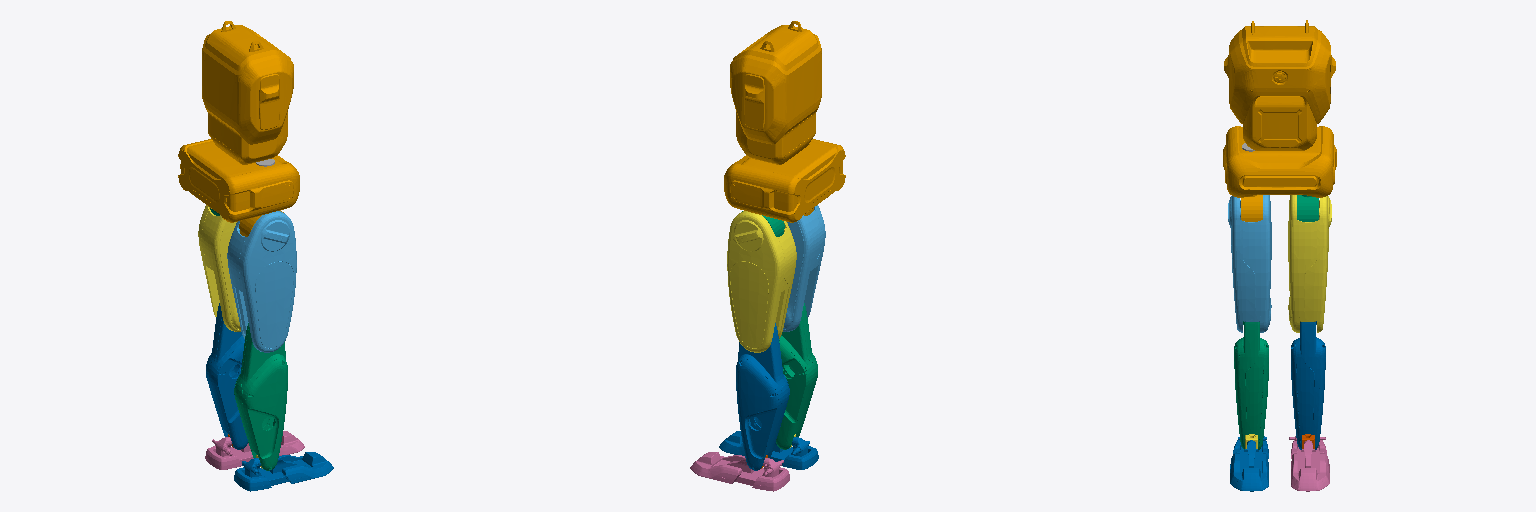
robot.urdf — zq01:
<?xml version="1.0" encoding="utf-8"?>
<!-- This URDF was automatically created by SolidWorks to URDF Exporter! Originally created by [author] ([email redacted]) 
     Commit Version: 1.6.0-1-g15f4949  Build Version: 1.6.7594.29634
     For more information, please see http://wiki.ros.org/sw_urdf_exporter -->
<robot name="zq01">
  
  <link name="base">
    <inertial>
      <origin  xyz="-0.02535033 0.000294387 0.13619966"   rpy="0 0 0" />
      <mass value="10.0" />
       <inertia
        ixx="0.339706"
        ixy="-0.000108"
        ixz="0.032022"
        iyy="0.313980"
        iyz="0.001392"
        izz="0.132460" />
    </inertial>
    <visual>
     <origin xyz="0 0 0"  rpy="0 0 0" />
      <geometry>
        <mesh  filename="../meshes/base.STL" />
      </geometry>
    </visual>
    <collision>
      <origin  xyz="0.01 0 0.15" rpy="0 0 0" />
      <geometry>
        <sphere radius="0.25"/>
      </geometry>
    </collision>
  </link>

  <link  name="Z1">
    <inertial>
      <origin xyz="0.0006345 -0.00035651634 -0.00127834"  rpy="0 0 0" />
      <mass  value="1.528" />
      <inertia
        ixx="0.0018427118"
        ixy="0."
        ixz="0."
        iyy="0.0023418127"
        iyz="0."
        izz="0.0032666149" />
    </inertial>
    <visual>
      <origin  xyz="0 0 0"   rpy="0 0 0" />
      <geometry>
        <mesh   filename="../meshes/Z1.STL" />
      </geometry>
    </visual>
<!--
    <collision>
      <origin  xyz="0 0 0"   rpy="0 0 0" />
      <geometry>
        <mesh   filename="../meshes/Z1.STL" />
      </geometry>
    </collision>
-->
<!--
    <collision>
      <origin  xyz="0 0 0"   rpy="0 1.5708 0" />
      <geometry>
        <cylinder radius="0.025" length="0.1"/>
      </geometry>
    </collision>
-->
  </link>

  <joint name="JOINT_Z1"  type="revolute">
    <origin  xyz="0.03923  0.075  0.003"   rpy="0 0 0" />
    <parent link="base" />
    <child  link="Z1" />
    <axis  xyz="1 0 0" />
    <limit
      lower="-0.523"
      upper="0.523"
      effort="140"
      velocity="25" />
  </joint>

  <link name="Z2">
    <inertial>
      <origin  xyz="0.00024818127 0.0020367166 -0.12006314"  rpy="0 0 0" />
      <mass  value="1.805" />
      <inertia
        ixx="0.003252302"
        ixy="0."
        ixz="0."
        iyy="0.0044254787"
        iyz="0."
        izz="0.0023681727" />
    </inertial>
    <visual>
      <origin  xyz="0 0 0"  rpy="0 0 0" />
      <geometry>
        <mesh  filename="../meshes/Z2.STL" />
      </geometry>
    </visual>
<!--
    <collision>
      <origin  xyz="0 0 0"   rpy="0 0 0" />
      <geometry>
        <mesh   filename="../meshes/Z2.STL" />
      </geometry>
    </collision>
-->
<!--
    <collision>
      <origin  xyz="0 0 -0.05"  rpy="0 0 0" />
      <geometry>
       <cylinder radius="0.025" length="0.04"/>
      </geometry>
    </collision>
-->
  </link>

  <joint  name="JOINT_Z2"  type="revolute">
    <origin   xyz="0 0 0"  rpy="0 0 0" />
    <parent link="Z1" />
    <child  link="Z2" />
    <axis  xyz="0 0 1" />
    <limit
      lower="-0.3"
      upper="0.3"
      effort="140"
      velocity="25" />
  </joint>

  <link  name="Z3">
    <inertial>
      <origin  xyz="-0.0017808217 0.00075989793 -0.14345387"  rpy="0 0 0" />
      <mass  value="3.941" />
      <inertia
        ixx="0.034081811"
        ixy="0."
        ixz="0."
        iyy="0.037772408"
        iyz="0."
        izz="0.010326187" />
    </inertial>
    <visual>
      <origin  xyz="0 0 0"  rpy="0 0 0" />
      <geometry>
        <mesh   filename="../meshes/Z3.STL" />
      </geometry>
    </visual>
<!--
    <collision>
      <origin  xyz="0 0 0"   rpy="0 0 0" />
      <geometry>
        <mesh   filename="../meshes/Z3.STL" />
      </geometry>
    </collision>
-->

    <collision>
      <origin  xyz="0 0 -0.12"  rpy="0 0 0" />
      <geometry>
        <cylinder radius="0.05" length="0.18"/>
      </geometry>
    </collision>

  </link>

  <joint  name="JOINT_Z3"  type="revolute">
    <origin  xyz="0 0 -0.129"   rpy="0 0 0" />
    <parent  link="Z2" />
    <child  link="Z3" />
    <axis  xyz="0 -1 0" />
    <limit
      lower="-1.204"
      upper="1.204"
      effort="140"
      velocity="25" />
  </joint>

  <link  name="Z4">
    <inertial>
      <origin  xyz="-0.0091506728 -0.0002620078 -0.16595646"  rpy="0 0 0" />
      <mass value="3.0938" />
      <inertia
        ixx="0.03451907"
        ixy="0."
        ixz="0."
        iyy="0.036273669"
        iyz="0."
        izz="0.0048516809" />
    </inertial>
    <visual>
      <origin  xyz="0 0 0"  rpy="0 0 0" />
      <geometry>
        <mesh   filename="../meshes/Z4.STL" />
      </geometry>
    </visual>
<!--
    <collision>
      <origin  xyz="0 0 0"   rpy="0 0 0" />
      <geometry>
        <mesh   filename="../meshes/Z4.STL" />
      </geometry>
    </collision>
-->

    <collision>
      <origin xyz="0 0 -0.2"  rpy="0 0 0" />
      <geometry>
         <cylinder radius="0.025" length="0.25"/>
      </geometry>
    </collision>

  </link>

  <joint name="JOINT_Z4"  type="revolute">
    <origin  xyz="0 0.00029 -0.3"  rpy="0 0 0" />
    <parent  link="Z3" />
    <child  link="Z4" />
    <axis  xyz="0 -1 0" />
    <limit
      lower="-2.268"
      upper="0"
      effort="140"
      velocity="25" />
  </joint>

  <link  name="Z5">
    <inertial>
      <origin  xyz="0 0 0"  rpy="0 0 0" />
      <mass  value="0.1587225" />
      <inertia
        ixx="0.000035301988"
        ixy="0"
        ixz="0"
        iyy="0.000035006921"
        iyz="0"
        izz="0.000039541326" />
    </inertial>
    <visual>
      <origin  xyz="0 0 0"   rpy="0 0 0" />
      <geometry>
        <mesh  filename="../meshes/Z5.STL" />
      </geometry>
    </visual>
<!--
    <collision>
      <origin  xyz="0 0 0"   rpy="0 0 0" />
      <geometry>
        <mesh   filename="../meshes/Z5.STL" />
      </geometry>
    </collision>
-->
<!--
    <collision>
      <origin xyz="0 0 0" rpy="0 0 0" />
      <geometry>
        <cylinder radius="0.025" length="0.02"/>
      </geometry>
    </collision>
-->
  </link>

  <joint name="JOINT_Z5"  type="fixed">
    <origin  xyz="0 -0.00029 -0.37"  rpy="0 0 0" />
    <parent  link="Z4" />
    <child  link="Z5" />
<!--
    <axis  xyz="0 -1 0" />
    <limit
      lower="-0.6"
      upper="0.6"
      effort="24"
      velocity="31" />
-->
  </joint>

  <link  name="Z6_foot">
    <inertial>
      <origin  xyz="0.027465253 0.0018083193 -0.034883767"  rpy="0 0 0" />
      <mass  value="1.084513" />
      <inertia
        ixx="0.00096010296"
        ixy="0."
        ixz="0."
        iyy="0.0053361542"
        iyz="0."
        izz="0.0056507356" />
    </inertial>
    <visual>
      <origin  xyz="0 0 0"  rpy="0 0 0" />
      <geometry>
        <mesh filename="../meshes/Z6.STL" />
      </geometry>
    </visual>
<!--
    <collision>
    <origin  xyz="0 0 0"  rpy="0 0 0" />
      <geometry>
        <mesh filename="../meshes/Z6.STL" />
      </geometry>
    </collision>
-->
    <collision>
      <origin xyz="0.02 0 -0.03" rpy="0 1.5708 0" />
      <geometry>
        <cylinder radius="0.025" length="0.16"/>
      </geometry>
    </collision>
  </link>

  <joint name="JOINT_Z6"  type="revolute">
    <origin  xyz="0 0 0"  rpy="0 0 0" />
    <parent  link="Z5" />
    <child  link="Z6_foot" />
    <axis  xyz="0 -1 0" />
    <limit
      lower="-0.6"
      upper="0.6"
      effort="24"
      velocity="31" />
  </joint>

  <link  name="Y1">
     <inertial>
      <origin xyz="0.0006345 -0.00035651634 -0.00127834"  rpy="0 0 0" />
      <mass  value="1.528" />
      <inertia
        ixx="0.0018427118"
        ixy="0.0"
        ixz="0.0"
        iyy="0.0023418127"
        iyz="0.0"
        izz="0.0032666149" />
    </inertial>
    <visual>
      <origin  xyz="0 0 0"  rpy="0 1.5708 0" />
      <geometry>
        <mesh   filename="../meshes/Y1.STL" />
      </geometry>
    </visual>
<!--
    <collision>
      <origin  xyz="0 0 0"   rpy="0 0 0" />
      <geometry>
        <mesh   filename="../meshes/Y1.STL" />
      </geometry>
    </collision>
-->
<!--
    <collision>
      <origin  xyz="0 0 0"   rpy="0 1.5708 0" />
      <geometry>
        <cylinder radius="0.025" length="0.1"/>
      </geometry>
    </collision>
-->
  </link>

  <joint  name="JOINT_Y1"  type="revolute">
    <origin  xyz="0.03923  -0.075  0.003"   rpy="0 0 0" />
    <parent link="base" />
    <child  link="Y1" />
    <axis  xyz="1 0 0" />
    <limit
      lower="-0.523"
      upper="0.523"
      effort="140"
      velocity="25" />
  </joint>

  <link  name="Y2">
     <inertial>
      <origin  xyz="-0.00024818127 -0.0020367166 -0.12006314"  rpy="0 0 0" />
      <mass  value="1.8" />
      <inertia
        ixx="0.003252302"
        ixy="0.0"
        ixz="0.0"
        iyy="0.0044254787"
        iyz="0.0"
        izz="0.0023681727" />
    </inertial>
    <visual>
      <origin  xyz="0 0 0"  rpy="0 0 0" />
      <geometry>
        <mesh  filename="../meshes/Y2.STL" />
      </geometry>
    </visual>
<!--
    <collision>
      <origin  xyz="0 0 0"   rpy="0 0 0" />
      <geometry>
        <mesh   filename="../meshes/Y2.STL" />
      </geometry>
    </collision>
-->
<!--
 <collision>
   <origin  xyz="0 0 -0.05"  rpy="0 0 0" />
   <geometry>
      <cylinder radius="0.025" length="0.04"/>
      </geometry>
  </collision>
-->
  </link>

  <joint  name="JOINT_Y2"  type="revolute">
    <origin  xyz="0 0 0"  rpy="0 0 0" />
    <parent  link="Y1" />
    <child link="Y2" />
    <axis  xyz="0 0 1" />
    <limit
      lower="-0.3"
      upper="0.3"
      effort="140"
      velocity="25" />
  </joint>

  <link  name="Y3">
     <inertial>
      <origin  xyz="-0.0017808217 -0.00075989793 -0.14345387"  rpy="0 0 0" />
      <mass  value="3.941" />
      <inertia
        ixx="0.034081811"
        ixy="0."
        ixz="0."
        iyy="0.037772408"
        iyz="0."
        izz="0.010326187" />
    </inertial>
    <visual>
      <origin  xyz="0 0 0"  rpy="0 0 0" />
      <geometry>
        <mesh  filename="../meshes/Y3.STL" />
      </geometry>
    </visual>
<!--
    <collision>
      <origin  xyz="0 0 0"   rpy="0 0 0" />
      <geometry>
        <mesh   filename="../meshes/Y3.STL" />
      </geometry>
    </collision>
-->

    <collision>
      <origin  xyz="0 0 -0.12"  rpy="0 0 0" />
      <geometry>
        <cylinder radius="0.05" length="0.18"/>
      </geometry>
    </collision>

  </link>

  <joint  name="JOINT_Y3"  type="revolute">
    <origin  xyz="0 0 -0.129"  rpy="0 0 0" />
    <parent link="Y2" />
    <child  link="Y3" />
    <axis  xyz="0 -1 0" />
    <limit
      lower="-1.204"
      upper="1.204"
      effort="140"
      velocity="25" />
  </joint>

  <link name="Y4">
     <inertial>
      <origin  xyz="-0.0091506728 0.0002620078 -0.16595646"  rpy="0 0 0" />
      <mass value="3.0938" />
      <inertia
        ixx="0.03451907"
        ixy="0.0"
        ixz="0.0"
        iyy="0.036273669"
        iyz="0.0"
        izz="0.0048516809" />
    </inertial>
    <visual>
      <origin  xyz="0 0 0" rpy="0 0 0" />
      <geometry>
        <mesh   filename="../meshes/Y4.STL" />
      </geometry>
    </visual>
<!--
    <collision>
      <origin  xyz="0 0 0"   rpy="0 0 0" />
      <geometry>
        <mesh   filename="../meshes/Y4.STL" />
      </geometry>
    </collision>
-->

    <collision>
       <origin xyz="0 0 -0.2"  rpy="0 0 0" />
      <geometry>
         <cylinder radius="0.025" length="0.25"/>
      </geometry>
    </collision>

  </link>

  <joint  name="JOINT_Y4"  type="revolute">
    <origin  xyz="0 -0.00029 -0.3"  rpy="0 0 0" />
    <parent link="Y3" />
    <child link="Y4" />
    <axis xyz="0 -1 0" />
    <limit
      lower="-2.268"
      upper="0"
      effort="140"
      velocity="25" />
  </joint>

  <link name="Y5">
   <inertial>
      <origin  xyz="0 0 0"  rpy="0 0 0" />
      <mass  value="0.1587225" />
      <inertia
        ixx="0.000035301988"
        ixy="0"
        ixz="0"
        iyy="0.000035006921"
        iyz="0"
        izz="0.000039541326" />
    </inertial>
    <visual>
      <origin  xyz="0 0 0"  rpy="0 0 0" />
      <geometry>
        <mesh  filename="../meshes/Y5.STL" />
      </geometry>
    </visual>
<!--
    <collision>
      <origin  xyz="0 0 0"   rpy="0 0 0" />
      <geometry>
        <mesh   filename="../meshes/Y5.STL" />
      </geometry>
    </collision>
-->
<!--
    <collision>
      <origin xyz="0 0 0" rpy="0 0 0" />
      <geometry>
        <cylinder radius="0.025" length="0.02"/>
      </geometry>
    </collision>
-->
  </link>

  <joint  name="JOINT_Y5"  type="fixed">
    <origin  xyz="0 0 -0.37"  rpy="0 0 0" />
    <parent  link="Y4" />
    <child  link="Y5" />
<!--
    <axis  xyz="0 -1 0" />
    <limit
      lower="-0.6"
      upper="0.6"
      effort="24"
      velocity="31" />
-->
  </joint>

  <link  name="Y6_foot">
    <inertial>
      <origin  xyz="0.027465253 -0.0018083193 -0.034883767"  rpy="0 0 0" />
      <mass  value="1.084513" />
      <inertia
        ixx="0.00096010296"
        ixy="0.0"
        ixz="0.0"
        iyy="0.0053361542"
        iyz="0.0"
        izz="0.0056507356" />
    </inertial>
    <visual>
      <origin xyz="0 0 0"  rpy="0 0 0" />
      <geometry>
        <mesh  filename="../meshes/Y6.STL" />
      </geometry>
    </visual>
<!--
    <collision>
      <origin  xyz="0 0 0"   rpy="0 0 0" />
      <geometry>
        <mesh   filename="../meshes/Y6.STL" />
      </geometry>
    </collision>
-->

    <collision>
      <origin xyz="0.02 0 -0.03" rpy="0 1.5708 0" />
      <geometry>
        <cylinder radius="0.025" length="0.16"/>
      </geometry>
    </collision>

  </link>

  <joint  name="JOINT_Y6"  type="revolute">
    <origin  xyz="0 0 0"  rpy="0 0 0" />
    <parent link="Y5" />
    <child  link="Y6_foot" />
    <axis  xyz="0 -1 0" />
    <limit
      lower="-0.6"
      upper="0.6"
      effort="24"
      velocity="31" />
  </joint>

</robot>

--- Render facts (derived) ---
3 views of the same robot in one strip: view 1: azimuth 30°, elevation 25°; view 2: azimuth 150°, elevation 25°; view 3: azimuth 270°, elevation 25° (orthographic).
Robot: zq01 — 13 links, 12 joints (10 revolute, 2 fixed); root link base; default pose: every joint at zero.
Visible links, largest first — view 1: base, Y3, Y4, Z4, Z3, Y6_foot, Z6_foot; view 2: base, Z3, Z4, Y4, Y3, Z6_foot, Y6_foot; view 3: base, Z3, Y3, Y4, Z4, Z6_foot, Y6_foot, Z2, Y2.
Boxes of the visible links, x1=… form: base: x1=178, y1=21, x2=299, y2=222; Y3: x1=227, y1=211, x2=296, y2=352; Y4: x1=234, y1=323, x2=287, y2=470; Z4: x1=206, y1=303, x2=247, y2=449; Z3: x1=198, y1=205, x2=240, y2=331; Y6_foot: x1=234, y1=452, x2=333, y2=491; Z6_foot: x1=205, y1=431, x2=304, y2=469; base: x1=724, y1=21, x2=845, y2=222; Z3: x1=727, y1=211, x2=796, y2=352; Z4: x1=736, y1=323, x2=789, y2=470; Y4: x1=776, y1=303, x2=817, y2=449; Y3: x1=783, y1=205, x2=825, y2=331; Z6_foot: x1=690, y1=452, x2=789, y2=491; Y6_foot: x1=719, y1=431, x2=818, y2=469; base: x1=1223, y1=20, x2=1336, y2=197; Z3: x1=1288, y1=195, x2=1331, y2=332; Y3: x1=1228, y1=195, x2=1271, y2=332; Y4: x1=1234, y1=321, x2=1268, y2=449; Z4: x1=1291, y1=321, x2=1325, y2=449; Z6_foot: x1=1289, y1=436, x2=1329, y2=491; Y6_foot: x1=1230, y1=436, x2=1268, y2=491; Z2: x1=1297, y1=195, x2=1318, y2=221; Y2: x1=1241, y1=195, x2=1262, y2=221.
Size in the robot's own frame: 0.3354 by 0.3013 by 1.27 metres.
Meshes: 13 distinct files referenced, 13 mesh visuals loaded (13 binary STL).
